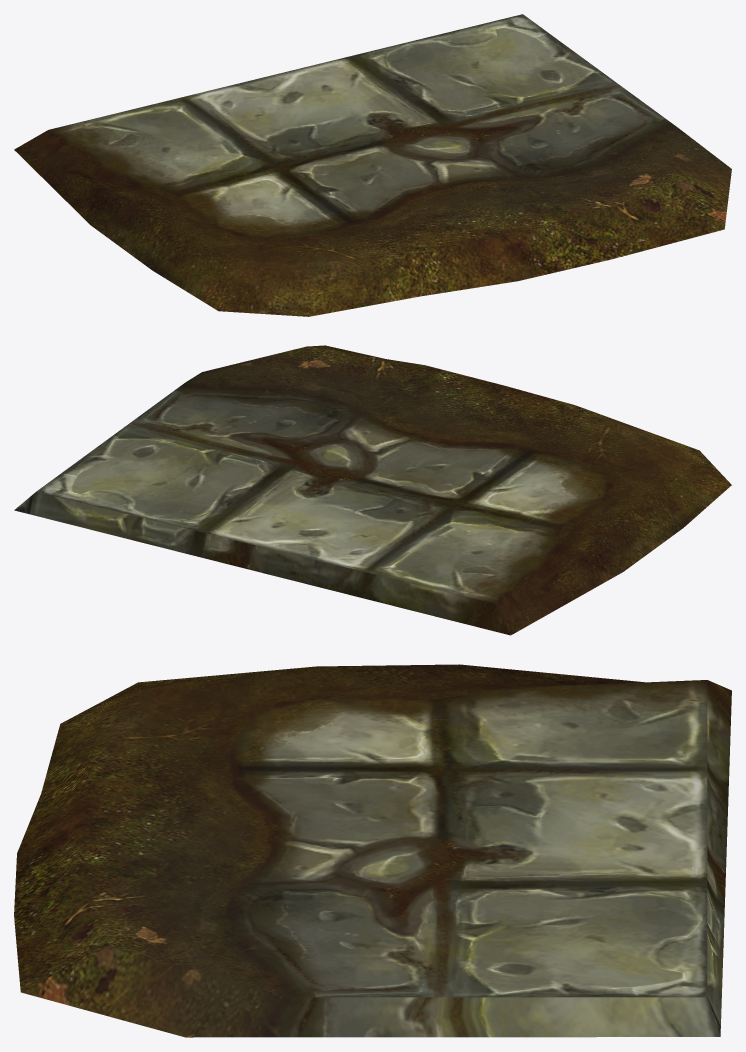
The model's file is C_dizhuan001.fbx.
3 views of the same model, one above another, from view 1: azimuth 30°, elevation 25°; view 2: azimuth 150°, elevation 25°; view 3: azimuth 270°, elevation 25° (orthographic). The views are drawn at different scales.
Visible parts, largest first — view 1: C_dizhuan001; view 2: C_dizhuan001; view 3: C_dizhuan001.
Boxes of the visible parts, left/top/right/bottom form: C_dizhuan001: left=14, top=14, right=731, bottom=316; C_dizhuan001: left=14, top=345, right=731, bottom=635; C_dizhuan001: left=14, top=664, right=731, bottom=1037.
Size of the model in its own units: 495 by 22.98 by 417.
